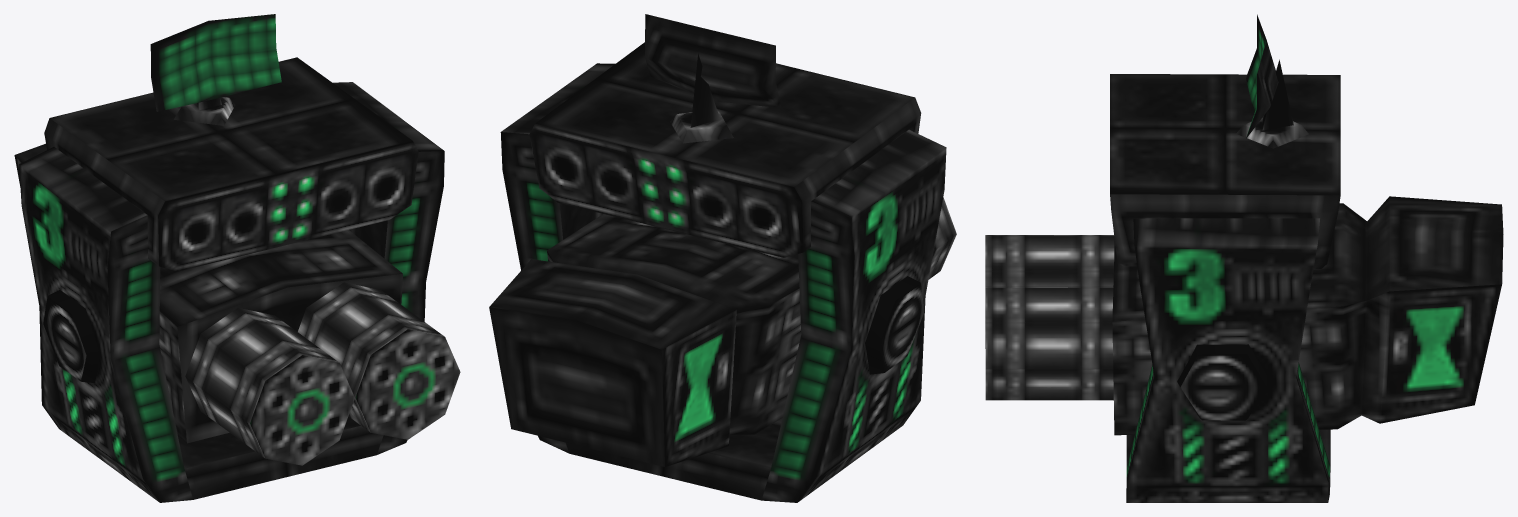
File: sentry3.glb
The picture shows the model from 3 angles, left to right: view 1: azimuth 30°, elevation 25°; view 2: azimuth 150°, elevation 25°; view 3: azimuth 270°, elevation 25°; orthographic projection. The views are drawn at different scales.
Visible parts, largest first — view 1: sentry3; view 2: sentry3; view 3: sentry3.
Boxes of the visible parts, x1,y1,x2,y2 form: sentry3: (14, 14, 460, 502); sentry3: (489, 14, 956, 502); sentry3: (985, 14, 1503, 502).
Bounding box in the file's own units: 39.11 × 43.46 × 50.22.
Materials: 2 (2 with a texture image).
